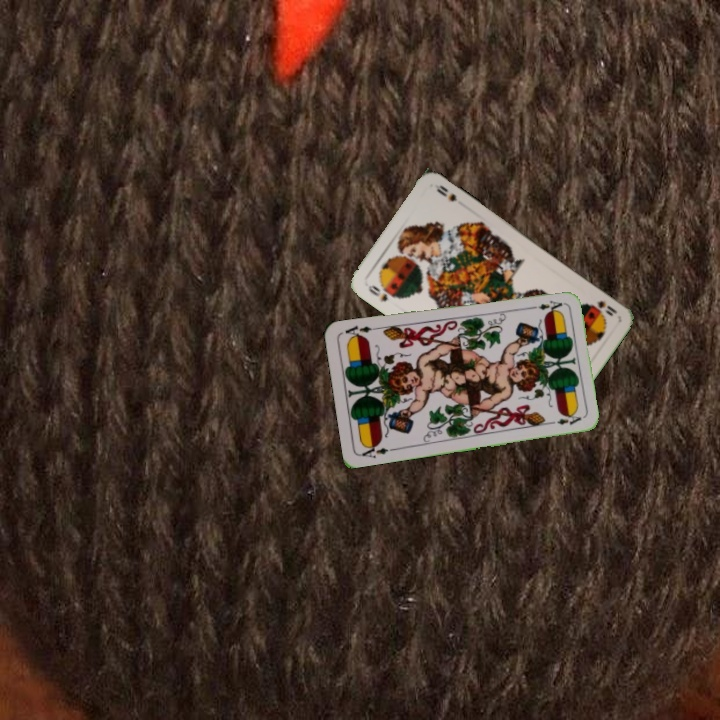EA: (357, 440, 397, 461), (525, 296, 565, 312)
SO: (364, 281, 398, 304), (587, 296, 620, 319)
